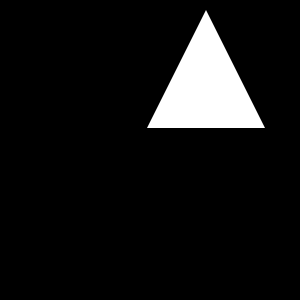triangle: (147, 10, 265, 128)
